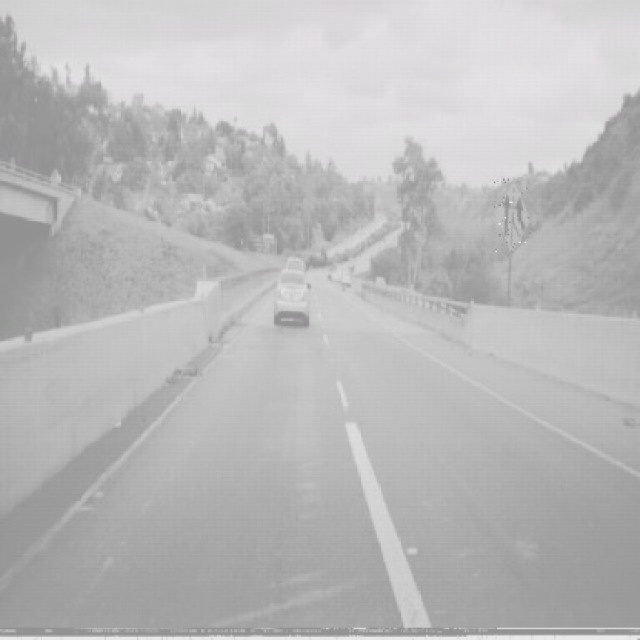addedLane: (492, 178, 532, 258)
